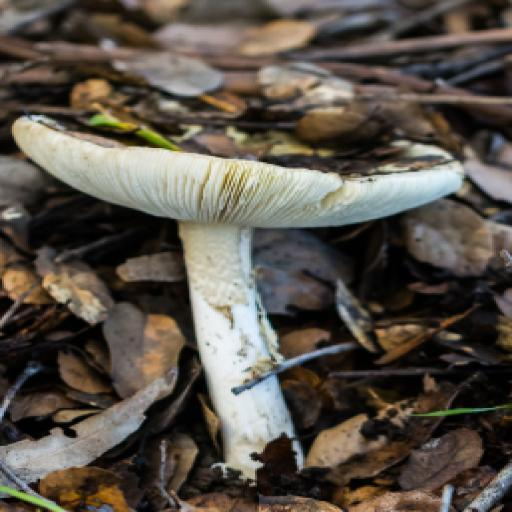mushroom: (0, 117, 468, 493)
